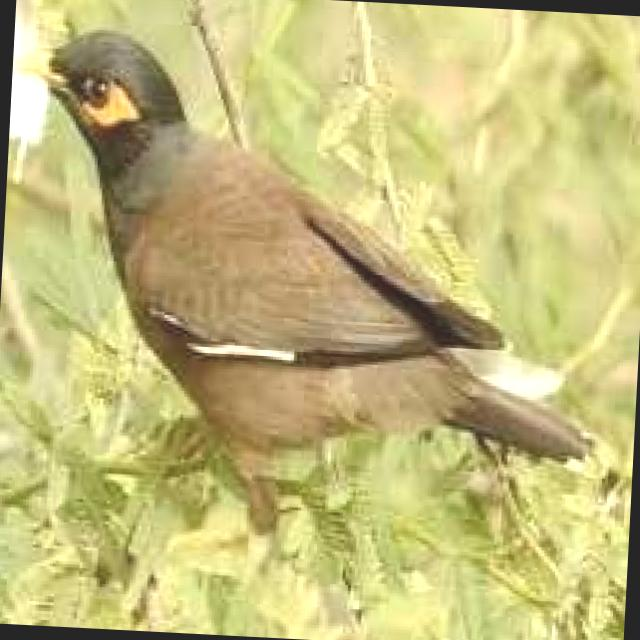bird: (0, 13, 621, 580)
